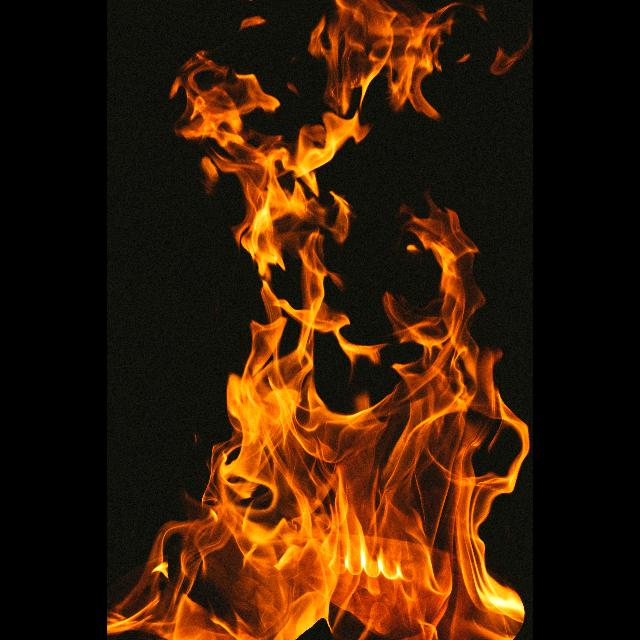fire: (107, 0, 529, 640)
